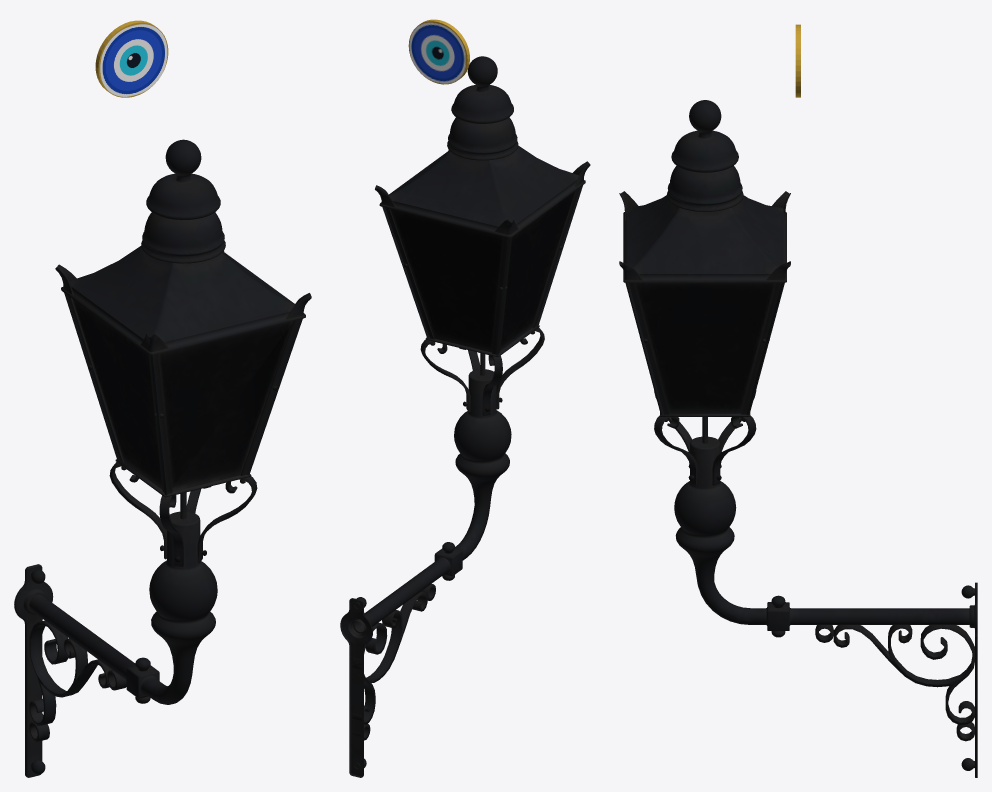
Rendered from nyb_lamp_nazar.glb.
3 renders of one model, left to right at view 1: azimuth 30°, elevation 25°; view 2: azimuth 150°, elevation 25°; view 3: azimuth 270°, elevation 25°, orthographic. The views are drawn at different scales.
Parts seen in each view (by area): view 1: street_lamp_02, add_nazar_die.png, Cylinder; view 2: street_lamp_02, add_nazar_die.png, Cylinder; view 3: street_lamp_02.
Part boxes in pixels (x1,y1,x2,y2): street_lamp_02: (14, 139, 311, 777); add_nazar_die.png: (100, 24, 167, 96); Cylinder: (95, 20, 168, 97); street_lamp_02: (340, 56, 590, 777); add_nazar_die.png: (409, 22, 465, 83); Cylinder: (408, 19, 469, 84); street_lamp_02: (619, 100, 977, 777).
Size of the model in its own units: 0.3867 by 1.86 by 0.8069.
5 materials, 4 textured.
